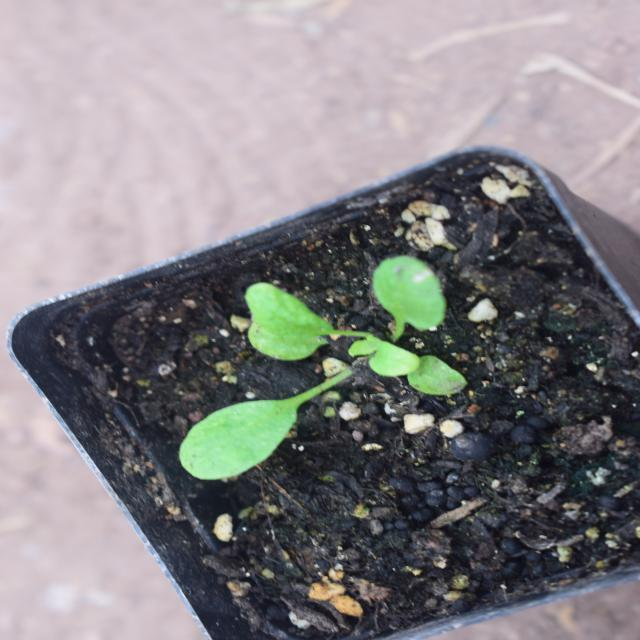Shepherd_Purse: (150, 158, 389, 468)
